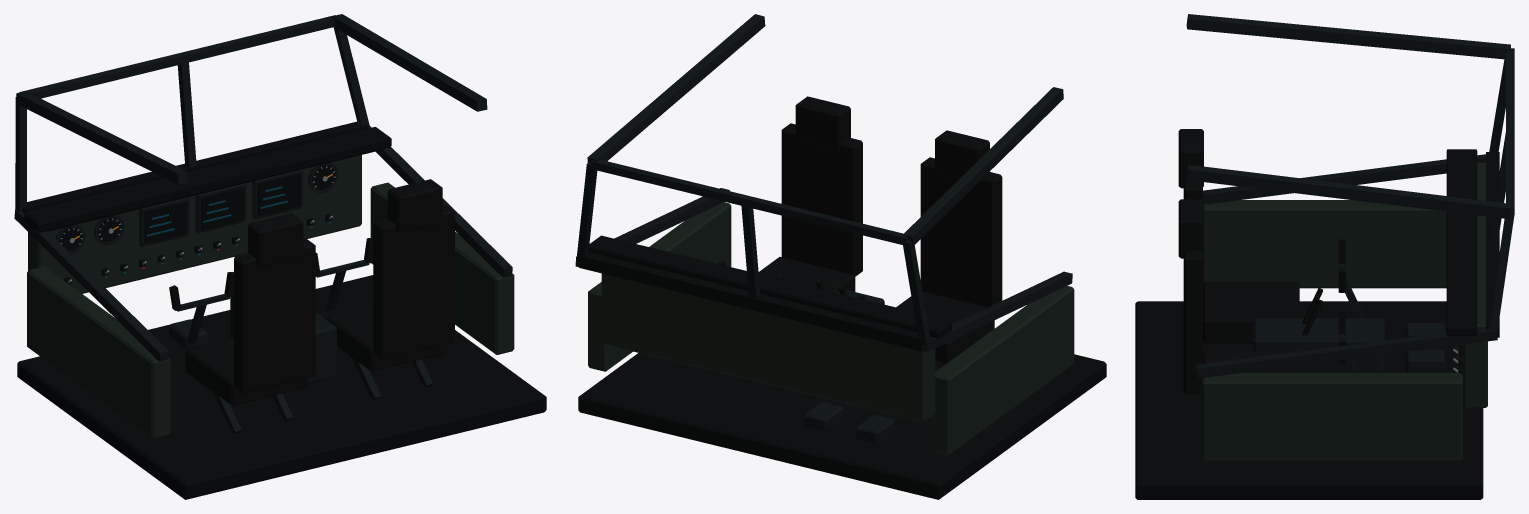
File: Cockpit_Transport.obj
3 renders of one model, left to right at view 1: azimuth 30°, elevation 25°; view 2: azimuth 150°, elevation 25°; view 3: azimuth 270°, elevation 25°, orthographic. The views are drawn at different scales.
Parts seen in each view (by area): view 1: Floor, Side_console, Broad_transport_panel, Seat_back.001, Seat_back, Glare_shield, Side_console.001, Windscreen_brow, Windscreen_sill, Canopy_roof_rail, Seat_cushion, Cabin_lower_rail (+16 smaller); view 2: Floor, Broad_transport_panel, Side_console, Seat_back.001, Seat_back, Glare_shield, Windscreen_sill, Side_console.001, Windscreen_brow, Canopy_roof_rail.001, Canopy_roof_rail, Headrest.001 (+10 smaller); view 3: Floor, Side_console.001, Side_console, Glare_shield, Canopy_roof_rail.001, Canopy_roof_rail, Seat_cushion, Center_pedestal, Cabin_lower_rail.001, Broad_transport_panel, Cabin_lower_rail, Seat_back.001 (+10 smaller).
Part boxes in pixels (bbox=[...]): Floor: bbox=[17, 275, 546, 499]; Side_console: bbox=[27, 266, 170, 438]; Broad_transport_panel: bbox=[28, 155, 361, 293]; Seat_back.001: bbox=[373, 205, 454, 359]; Seat_back: bbox=[234, 239, 315, 393]; Glare_shield: bbox=[24, 127, 391, 232]; Side_console.001: bbox=[370, 182, 514, 354]; Windscreen_brow: bbox=[19, 15, 335, 98]; Windscreen_sill: bbox=[22, 121, 367, 213]; Canopy_roof_rail: bbox=[16, 91, 188, 184]; Seat_cushion: bbox=[185, 338, 307, 405]; Cabin_lower_rail: bbox=[14, 209, 168, 361]; Floor: bbox=[578, 353, 1106, 499]; Broad_transport_panel: bbox=[601, 273, 935, 422]; Side_console: bbox=[931, 286, 1074, 455]; Seat_back.001: bbox=[781, 123, 862, 276]; Seat_back: bbox=[920, 157, 1002, 307]; Glare_shield: bbox=[588, 235, 951, 340]; Windscreen_sill: bbox=[579, 252, 923, 351]; Side_console.001: bbox=[588, 202, 731, 371]; Windscreen_brow: bbox=[590, 159, 907, 245]; Canopy_roof_rail.001: bbox=[587, 14, 765, 162]; Canopy_roof_rail: bbox=[903, 87, 1063, 246]; Headrest.001: bbox=[795, 96, 850, 150]; Floor: bbox=[1135, 301, 1483, 499]; Side_console.001: bbox=[1202, 373, 1462, 461]; Side_console: bbox=[1203, 200, 1446, 288]; Glare_shield: bbox=[1446, 149, 1477, 336]; Canopy_roof_rail.001: bbox=[1186, 164, 1510, 218]; Canopy_roof_rail: bbox=[1186, 14, 1510, 59]; Seat_cushion: bbox=[1203, 282, 1299, 343]; Center_pedestal: bbox=[1253, 318, 1384, 372]; Cabin_lower_rail.001: bbox=[1196, 327, 1497, 378]; Broad_transport_panel: bbox=[1463, 162, 1487, 407]; Cabin_lower_rail: bbox=[1203, 154, 1485, 204]; Seat_back.001: bbox=[1183, 251, 1202, 393].
Size of the model in its own units: 2.24 by 1.79 by 1.96.
